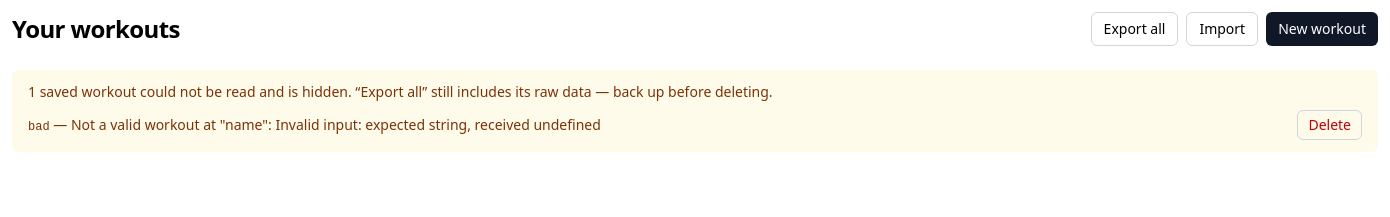
WorkoutLibrary › deletes an unreadable record, which has no row of its own
This screenshot has width=1390, height=217.
Click the button with aria-label "Delete unreadable record". click: {"x": 1330, "y": 125}
box: x1=1297 y1=110 x2=1362 y2=140
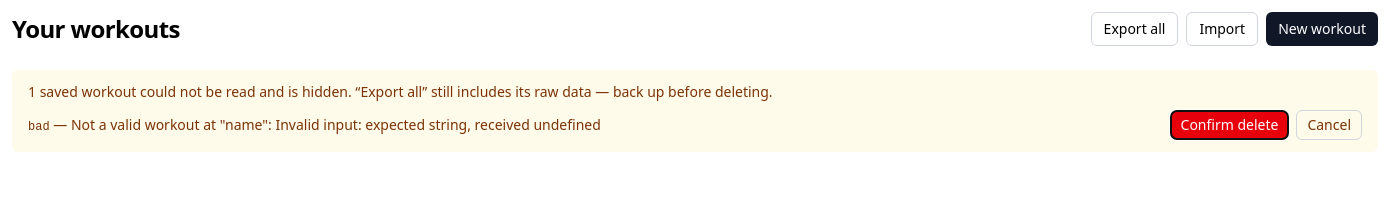
Click the button "Confirm delete". click: {"x": 1229, "y": 125}
box: x1=1170 y1=111 x2=1288 y2=139
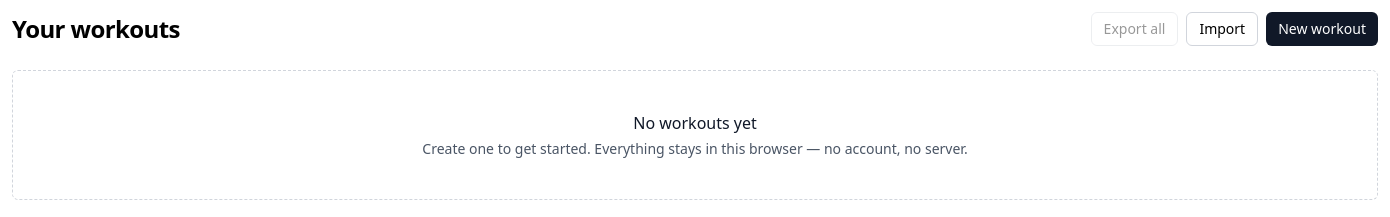
Check: the text "could not be read" is gone
Check: the text "No workouts yet" is shown, box x1=633 y1=112 x2=757 y2=134
